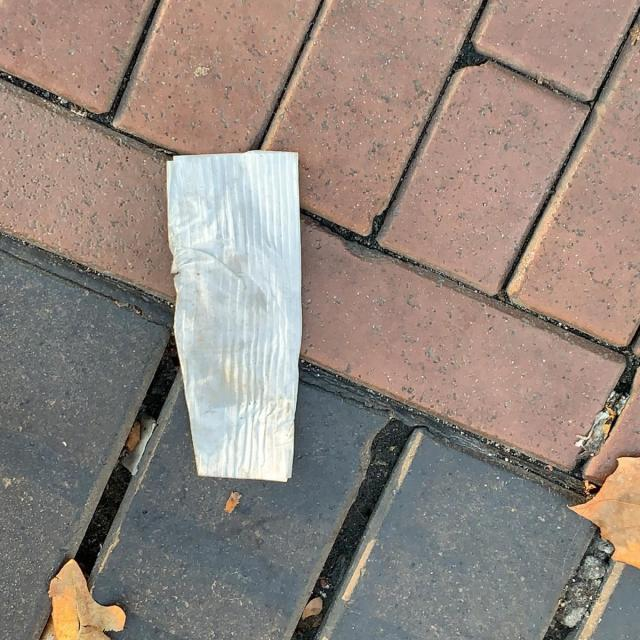Paper: (162, 144, 304, 487)
